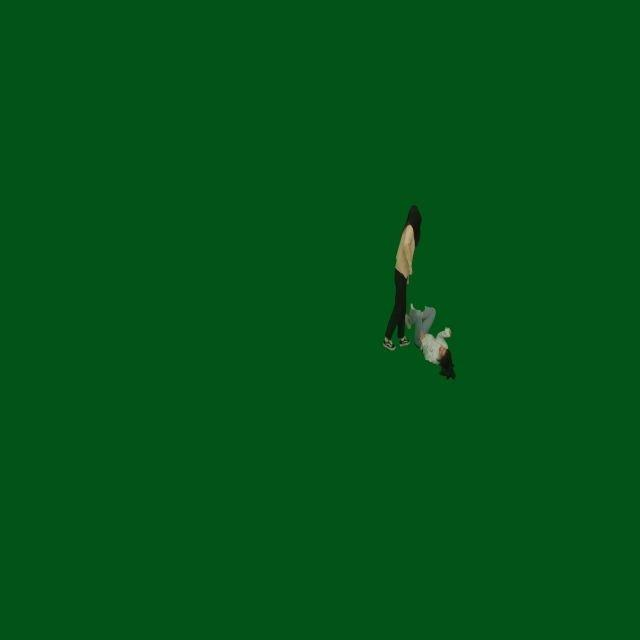fight: (383, 204, 456, 380)
